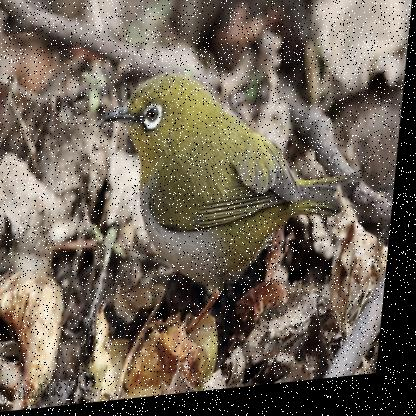Burung: (88, 59, 376, 311)
